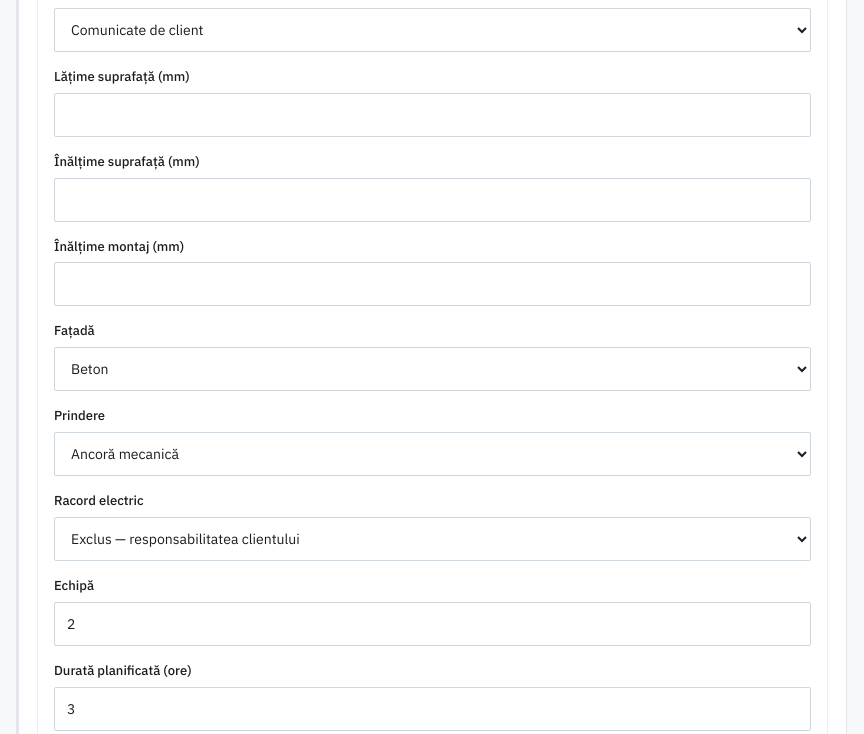
Scenario: RequestDetailPage › explains a missing other-option detail instead of a generic save failure
This screenshot has width=864, height=734.
(page scrolled)
Select "Altul" in the dropdown labelled "Fațadă": (432, 369) x1=54 y1=347 x2=811 y2=391
(page scrolled)
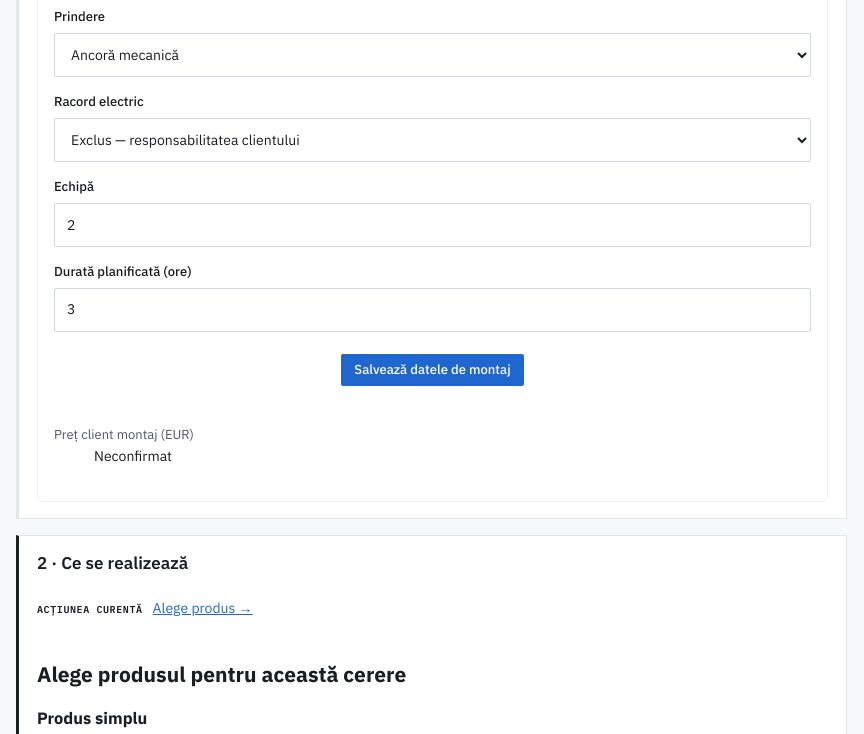
Click the button "Salvează datele de montaj": click(432, 370) x1=54 y1=348 x2=811 y2=392
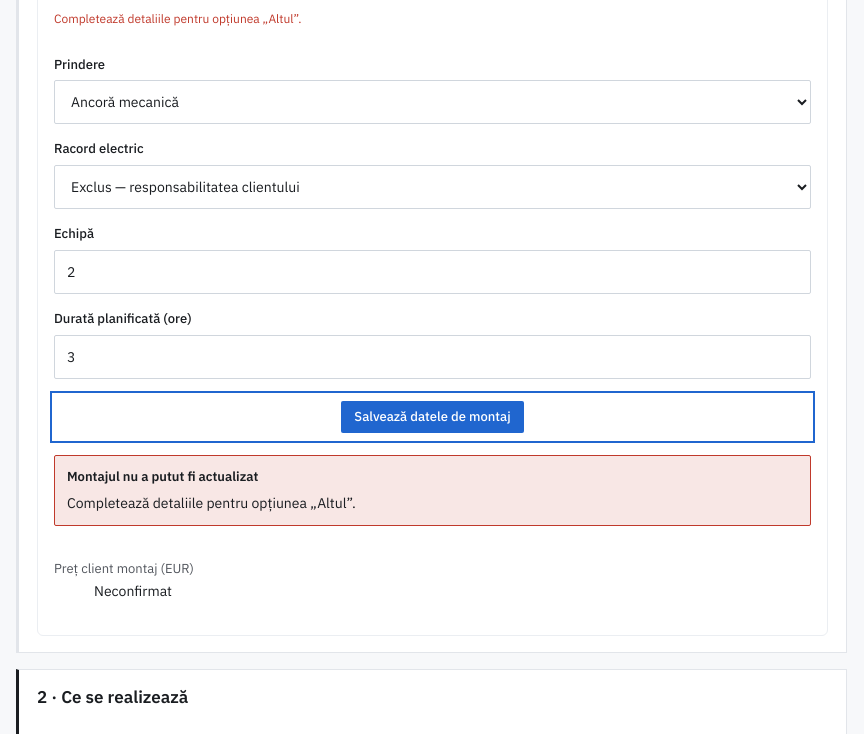
Check: the text "Completează detaliile pentru opțiunea „Altul”." below "Tip suprafață — detalii" is shown, box x1=54 y1=11 x2=302 y2=26
